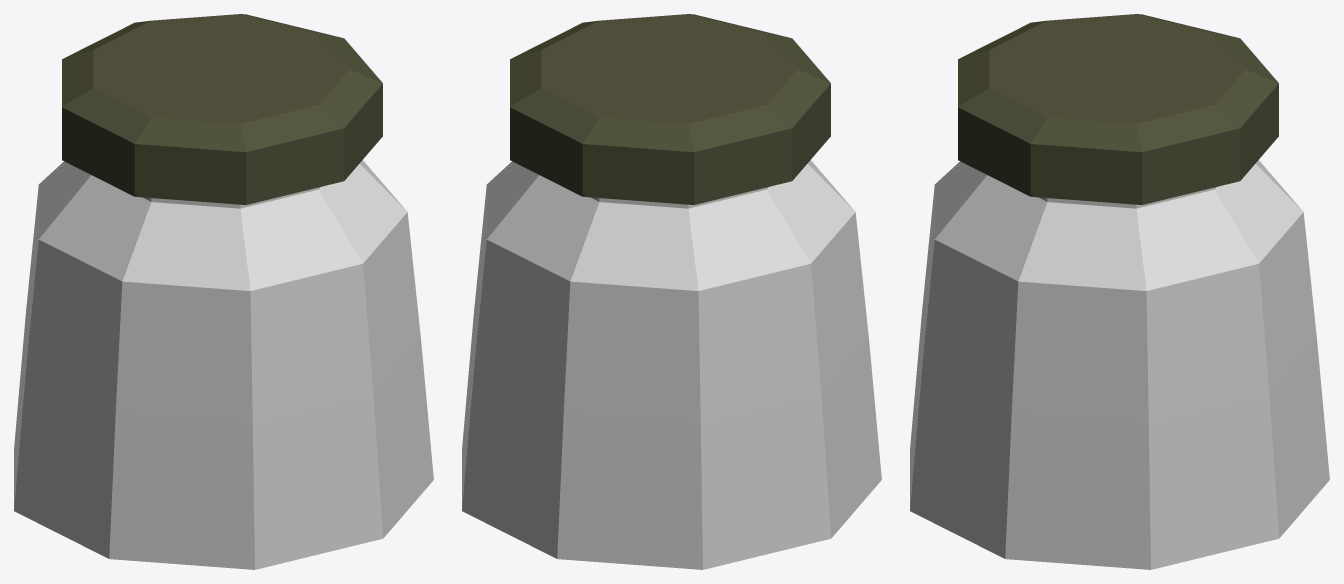
Rendered from RosePetles.fbx.
The picture shows the model from 3 angles, left to right: view 1: azimuth 30°, elevation 25°; view 2: azimuth 150°, elevation 25°; view 3: azimuth 270°, elevation 25°; orthographic projection.
Visible parts, largest first — view 1: Sphere001.001; view 2: Sphere001.001; view 3: Sphere001.001.
Boxes of the visible parts, <box> form: Sphere001.001: <box>14,14,433,569</box>; Sphere001.001: <box>462,14,881,569</box>; Sphere001.001: <box>910,14,1329,569</box>.
Size of the model in its own units: 115 by 124 by 114.
